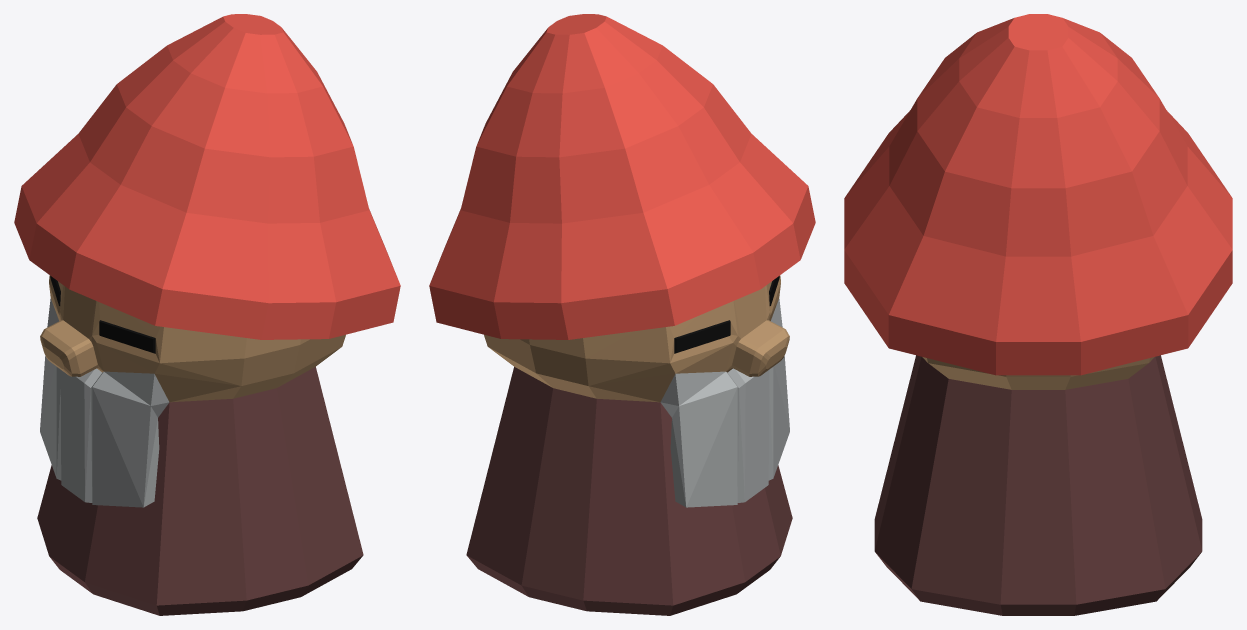
Rendered from Gnome.fbx.
3 views of the same model, side by side, from view 1: azimuth 30°, elevation 25°; view 2: azimuth 150°, elevation 25°; view 3: azimuth 270°, elevation 25° (orthographic). The views are drawn at different scales.
Visible parts, largest first — view 1: Gnome; view 2: Gnome; view 3: Gnome.
Part boxes in pixels (x1,y1,x2,y2): Gnome: [14, 14, 400, 615]; Gnome: [429, 14, 815, 615]; Gnome: [844, 14, 1232, 615].
Bounding box in the file's own units: 245 × 388 × 245.
